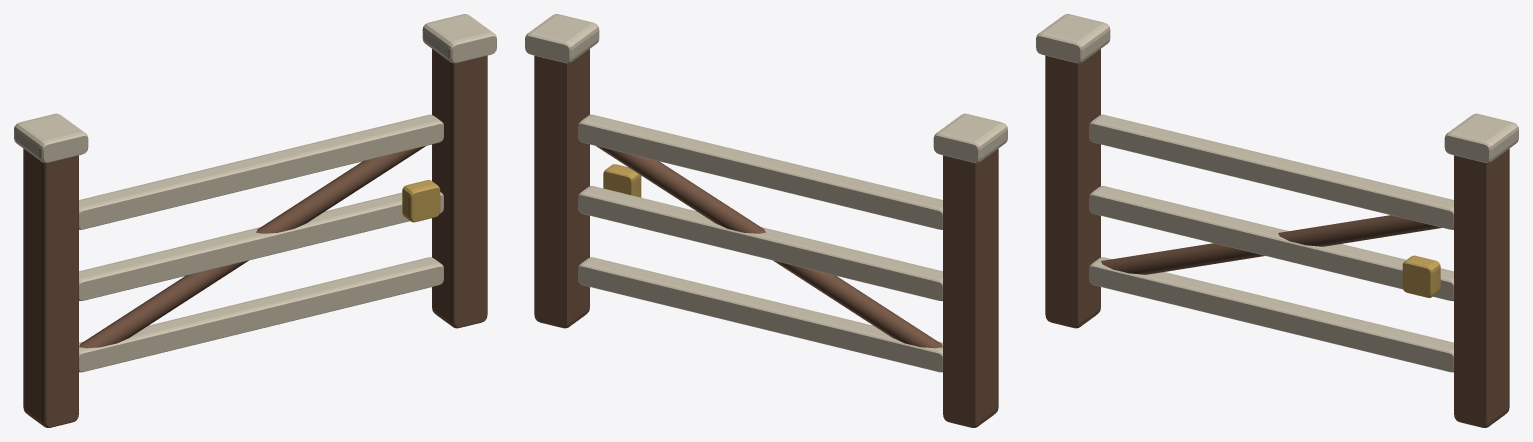
The model's file is farm-gate.glb.
The picture shows the model from 3 angles, left to right: view 1: azimuth 30°, elevation 25°; view 2: azimuth 150°, elevation 25°; view 3: azimuth 330°, elevation 25°; orthographic projection.
Visible parts, largest first — view 1: shell; view 2: shell; view 3: shell.
Boxes of the visible parts, left/top/right/bottom form: shell: left=14, top=14, right=496, bottom=427; shell: left=525, top=14, right=1007, bottom=427; shell: left=1036, top=14, right=1518, bottom=427.
Size of the model in its own units: 2.68 by 1.63 by 0.31.
